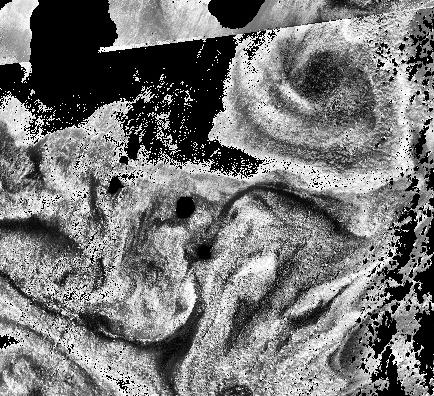CE: (240, 17, 412, 190)
